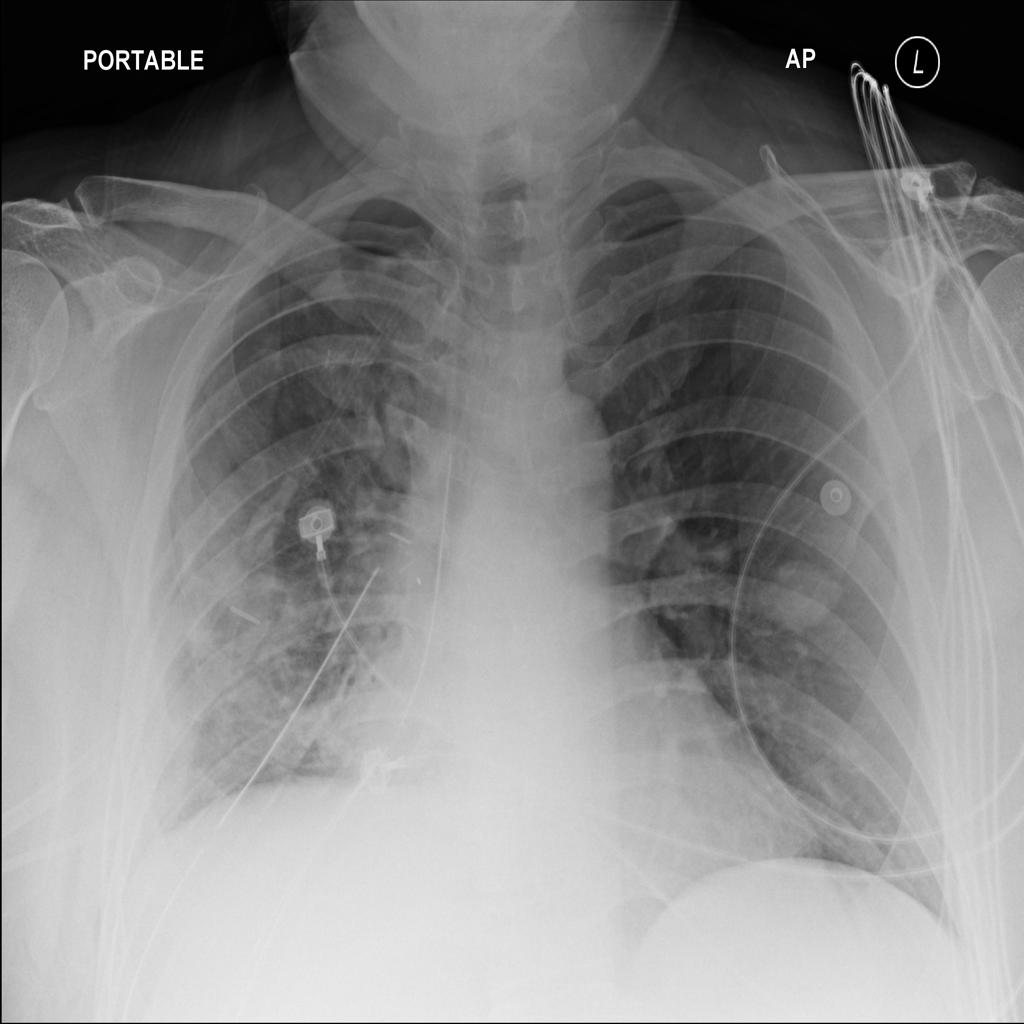nodule: (750, 536, 857, 647)
